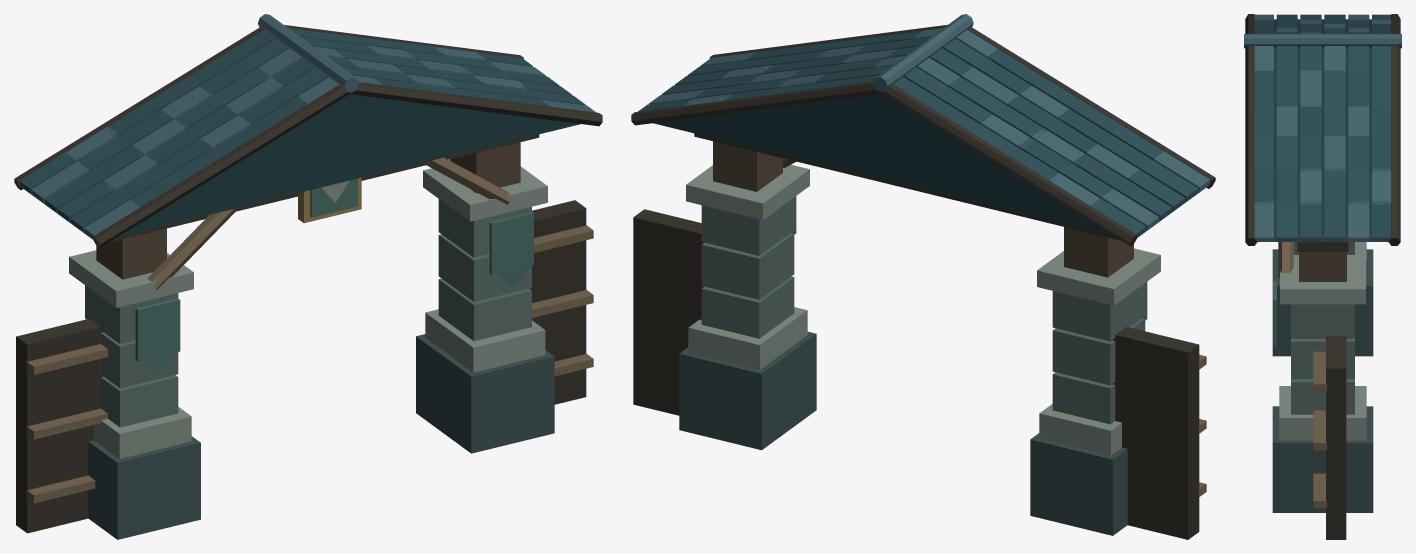
The model's file is village-gate.glb.
3 views of the same model, side by side, from view 1: azimuth 30°, elevation 25°; view 2: azimuth 150°, elevation 25°; view 3: azimuth 270°, elevation 25° (orthographic). The views are drawn at different scales.
Visible parts, largest first — view 1: village-gate; view 2: village-gate; view 3: village-gate.
Boxes of the visible parts, x1,y1,x2,y2 form: village-gate: (14, 14, 602, 539); village-gate: (631, 14, 1215, 539); village-gate: (1244, 14, 1401, 539).
Size of the model in its own units: 8.07 by 5.8 by 2.17.
